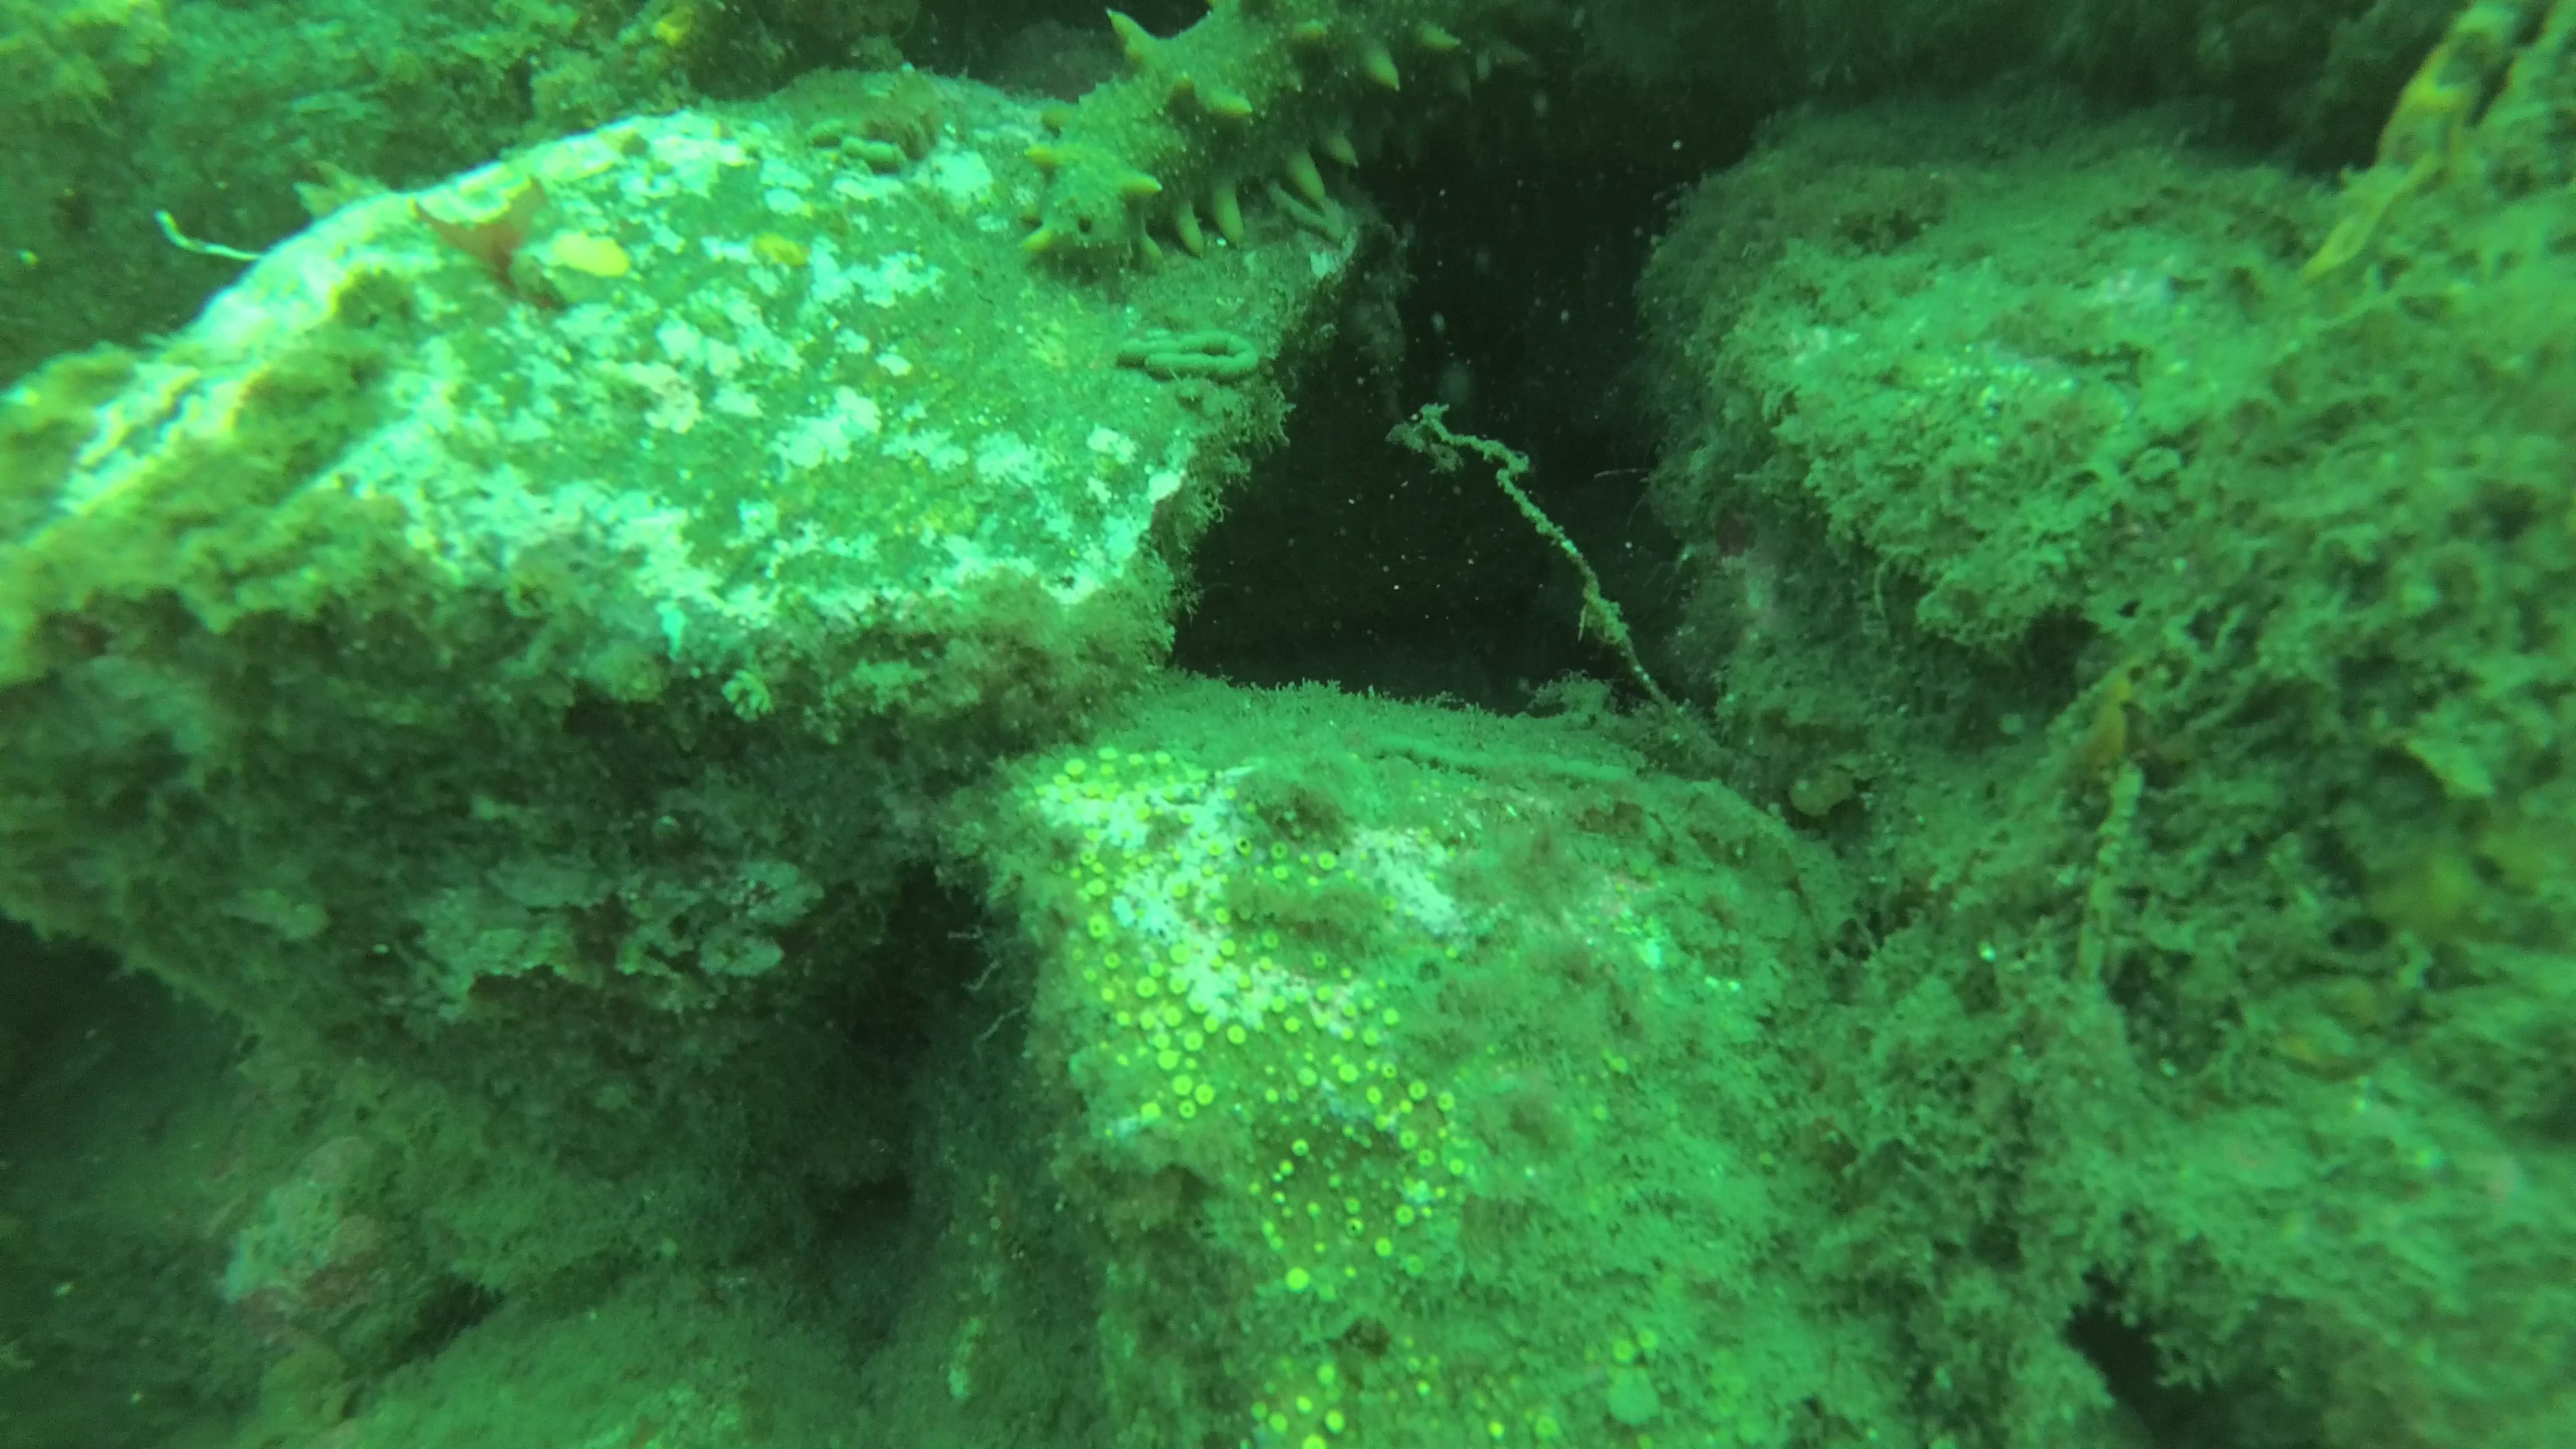holothurian: (1012, 0, 1543, 299)
